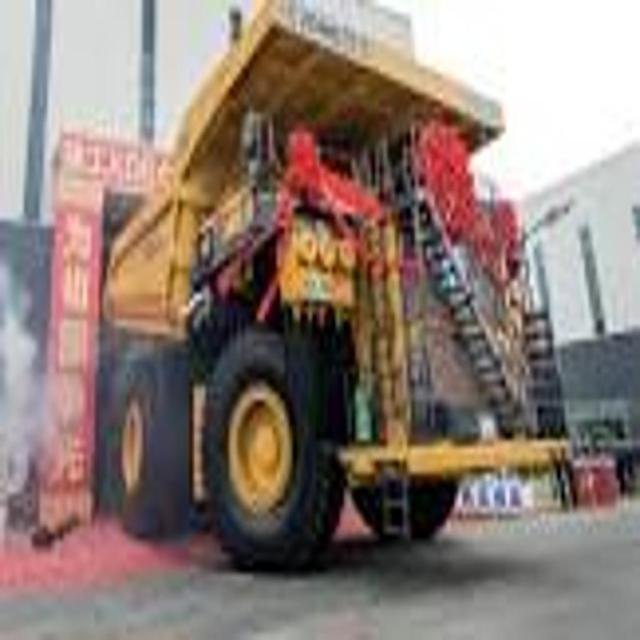dump_truck: (104, 2, 573, 586)
